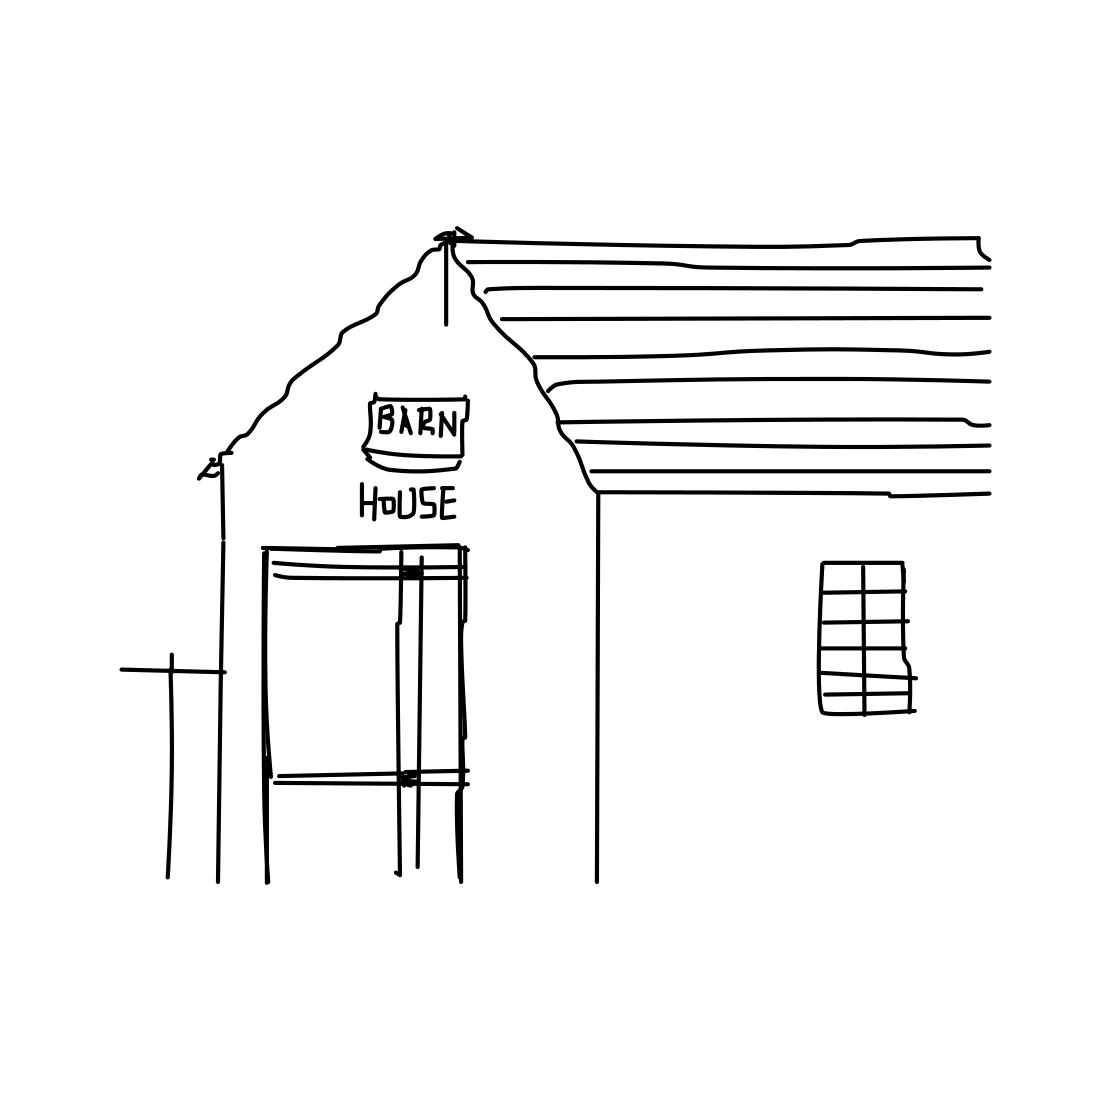House: (186, 210, 1025, 914)
